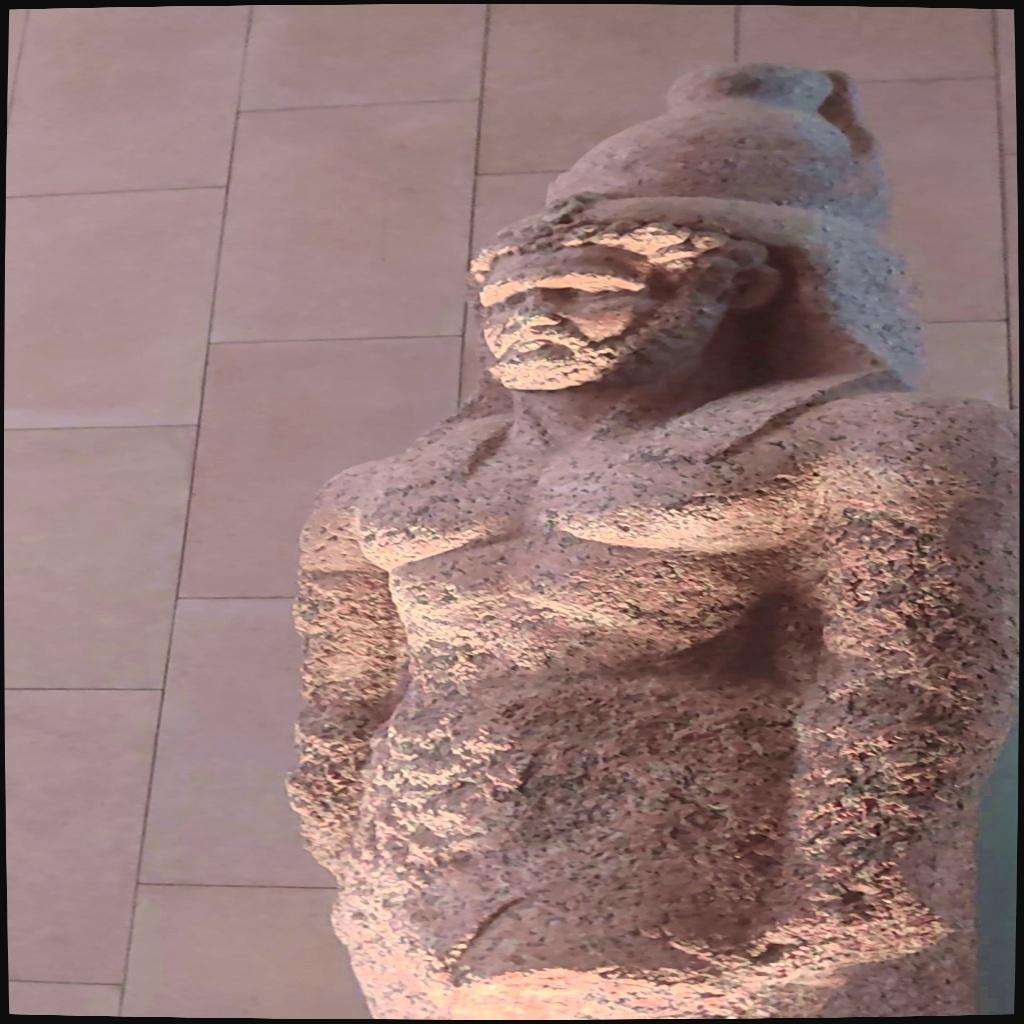Statue of Carcala: (282, 59, 1014, 1017)
